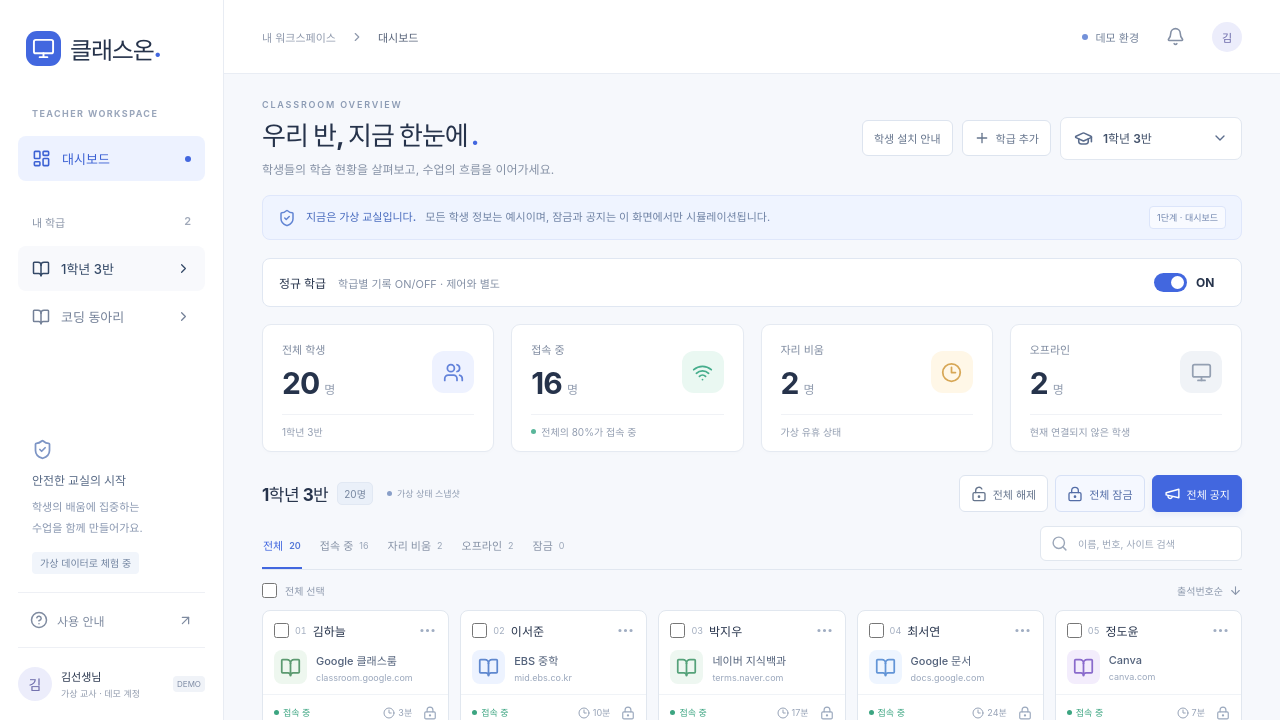
Test: 학생용 개발 ZIP 안내 › ZIP 실패를 안내하고 다시 시도할 수 있다
What coordinates should you click on to do the following:
click the button "학생 설치 안내"
I would click on:
 (907, 138)
Its box is [862,120,953,156].
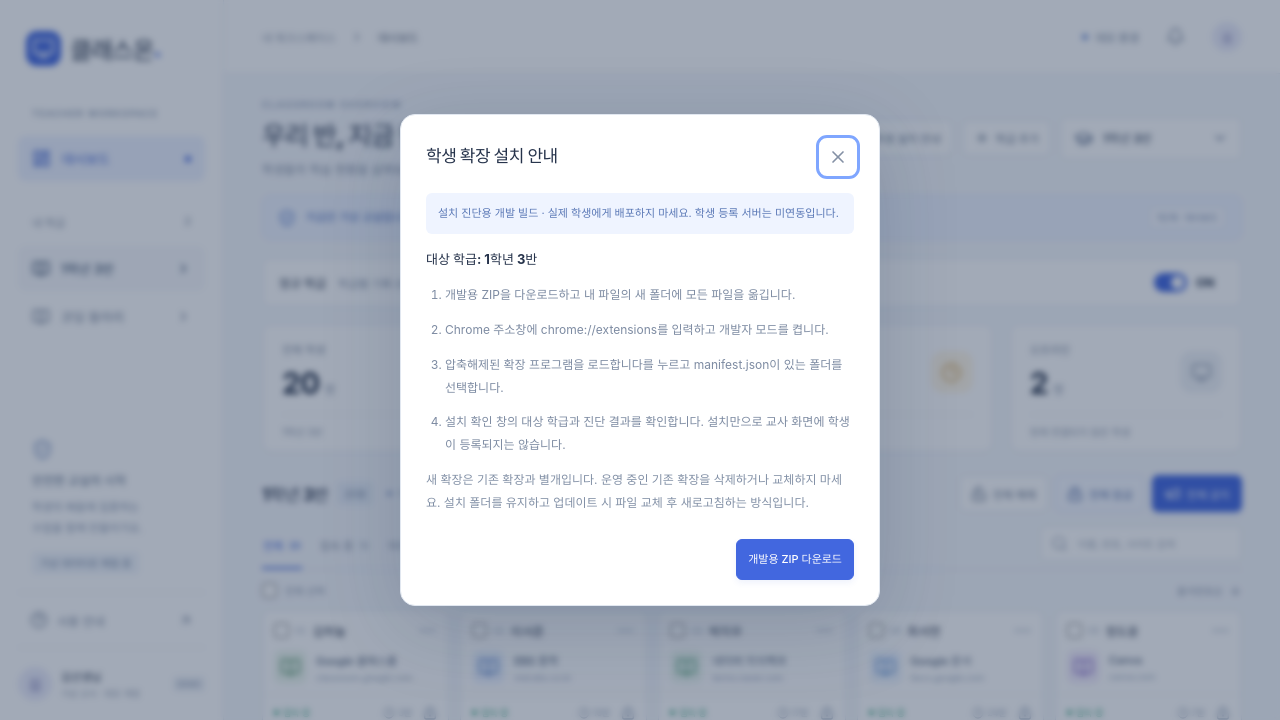
What coordinates should you click on to do the following:
click the button "개발용 ZIP 다운로드"
I would click on:
 (795, 559)
Its box is [736,539,854,580].
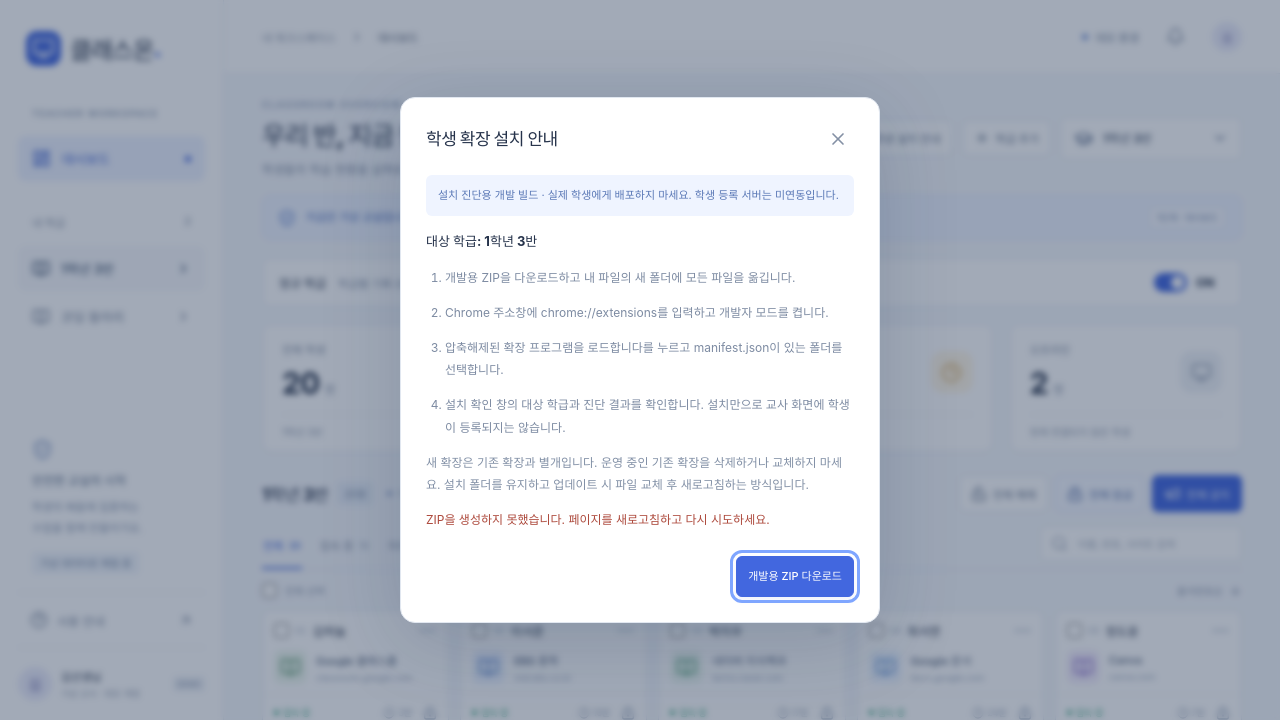
Check: the message shows "ZIP을 생성하지 못했습니다", box [426,512,770,527]
What coordinates should you click on to do the following:
click the button "개발용 ZIP 다운로드"
I would click on:
 (795, 577)
Its box is [736,556,854,597].
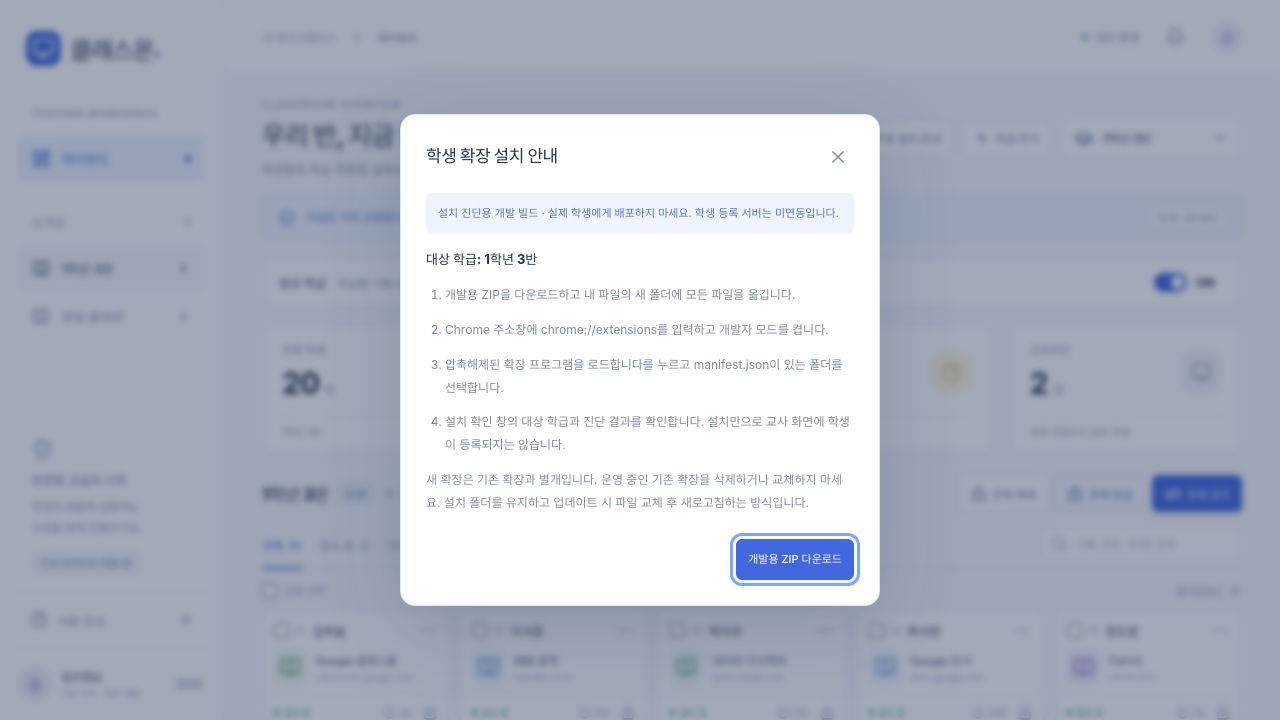
Check: the message "ZIP을 생성하지 못했습니다. 페이지를 새로고침하고 다시 시도하세요." is gone
